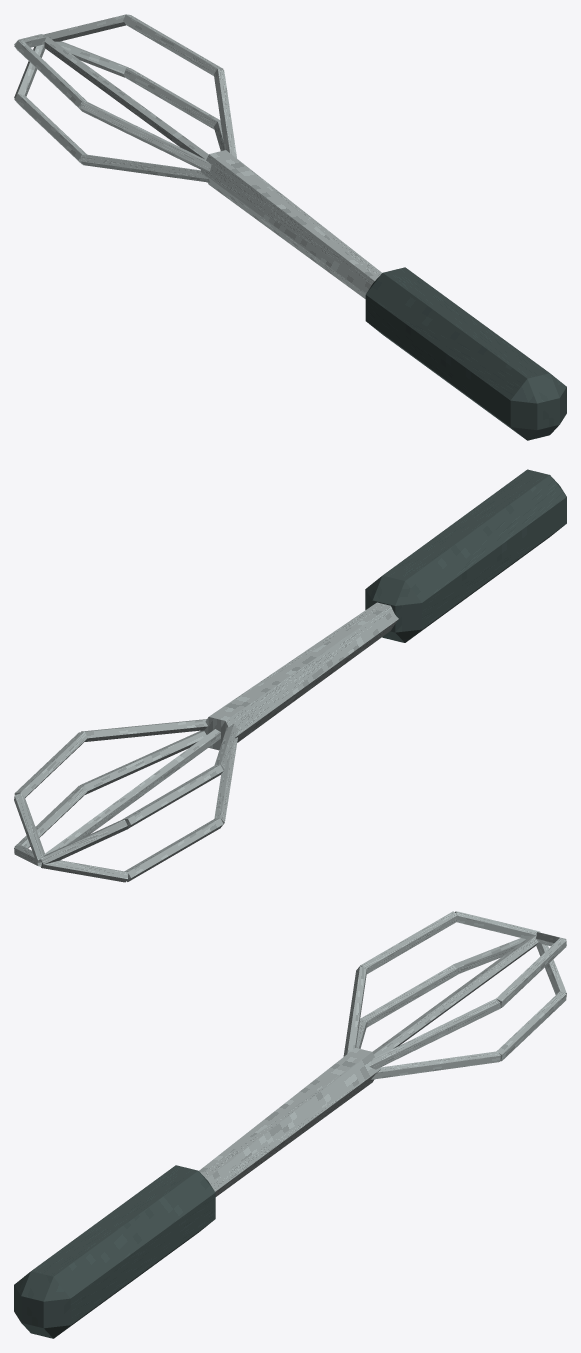
Rendered from whisk.glb.
3 views of the same model, one above another, from view 1: azimuth 30°, elevation 25°; view 2: azimuth 150°, elevation 25°; view 3: azimuth 330°, elevation 25° (orthographic).
Parts seen in each view (by area): view 1: block_handle, block_steel shank, block_wire loop -1 0.004 3, block_wire loop -1 0.022 0, block_wire loop -1 0.004 0, block_wire loop 1 0.022 1, block_wire loop 1 0.004 1, block_wire loop -1 0.022 1, block_wire loop -1 0.004 1, block_wire loop 1 0.022 0, block_wire loop 1 0.022 2, block_wire loop 1 0.004 2; view 2: block_handle, block_steel shank, block_wire loop -1 0.004 3, block_wire loop 1 0.004 0, block_wire loop 1 0.022 0, block_wire loop -1 0.022 1, block_wire loop -1 0.004 1, block_wire loop -1 0.022 2, block_wire loop 1 0.022 1, block_wire loop -1 0.004 2, block_wire loop 1 0.004 1, block_wire loop 1 0.022 2 (+1 smaller); view 3: block_handle, block_steel shank, block_wire loop -1 0.004 3, block_wire loop 1 0.022 0, block_wire loop 1 0.004 0, block_wire loop -1 0.022 1, block_wire loop -1 0.004 1, block_wire loop 1 0.022 1, block_wire loop 1 0.004 1, block_wire loop -1 0.022 0, block_wire loop -1 0.022 2, block_wire loop -1 0.004 2.
Boxes of the visible parts, x1,y1,x2,y2 form: block_handle: [365, 267, 566, 440]; block_steel shank: [200, 150, 381, 298]; block_wire loop -1 0.004 3: [44, 36, 208, 159]; block_wire loop -1 0.022 0: [80, 102, 211, 171]; block_wire loop -1 0.004 0: [80, 154, 209, 182]; block_wire loop 1 0.022 1: [123, 14, 223, 75]; block_wire loop 1 0.004 1: [123, 68, 220, 129]; block_wire loop -1 0.022 1: [14, 40, 87, 110]; block_wire loop -1 0.004 1: [14, 94, 86, 164]; block_wire loop 1 0.022 0: [213, 68, 236, 158]; block_wire loop 1 0.022 2: [43, 14, 126, 41]; block_wire loop 1 0.004 2: [55, 41, 128, 77]; block_handle: [365, 469, 566, 642]; block_steel shank: [200, 602, 398, 750]; block_wire loop -1 0.004 3: [44, 729, 220, 855]; block_wire loop 1 0.004 0: [80, 731, 206, 794]; block_wire loop 1 0.022 0: [81, 719, 207, 741]; block_wire loop -1 0.022 1: [122, 765, 223, 827]; block_wire loop -1 0.004 1: [124, 818, 223, 881]; block_wire loop -1 0.022 2: [40, 819, 128, 864]; block_wire loop 1 0.022 1: [14, 731, 87, 797]; block_wire loop -1 0.004 2: [41, 860, 128, 882]; block_wire loop 1 0.004 1: [14, 785, 87, 848]; block_wire loop 1 0.022 2: [14, 793, 44, 862]; block_handle: [14, 1165, 215, 1338]; block_steel shank: [199, 1047, 380, 1196]; block_wire loop -1 0.004 3: [372, 935, 538, 1057]; block_wire loop 1 0.022 0: [369, 998, 500, 1069]; block_wire loop 1 0.004 0: [371, 1051, 500, 1079]; block_wire loop -1 0.022 1: [358, 911, 457, 973]; block_wire loop -1 0.004 1: [361, 964, 457, 1027]; block_wire loop 1 0.022 1: [496, 937, 566, 1007]; block_wire loop 1 0.004 1: [497, 991, 566, 1061]; block_wire loop -1 0.022 0: [343, 966, 366, 1056]; block_wire loop -1 0.022 2: [455, 911, 540, 938]; block_wire loop -1 0.004 2: [453, 938, 525, 974].
Size of the model in its own units: 0.051 by 0.0236 by 0.31.
Materials: 1 (1 with a texture image).
